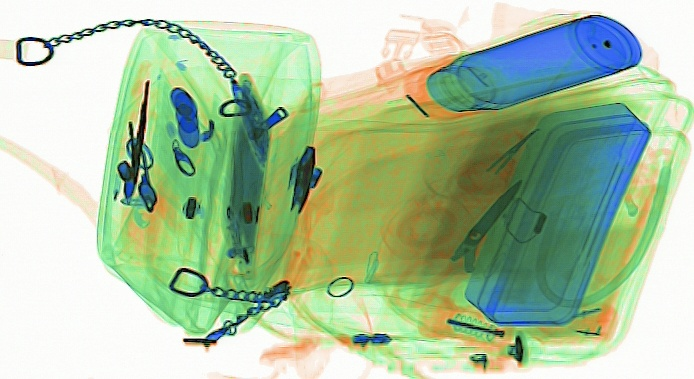scissors: (389, 177, 523, 316), (455, 126, 539, 202)
